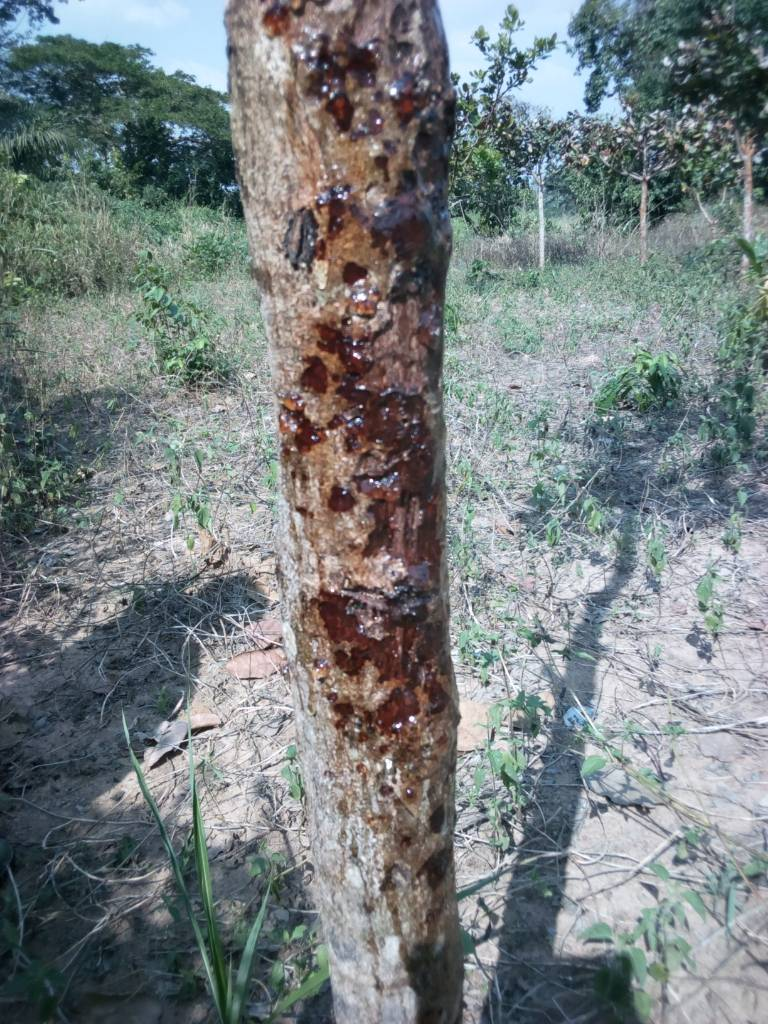Gommose: (277, 5, 458, 738)
